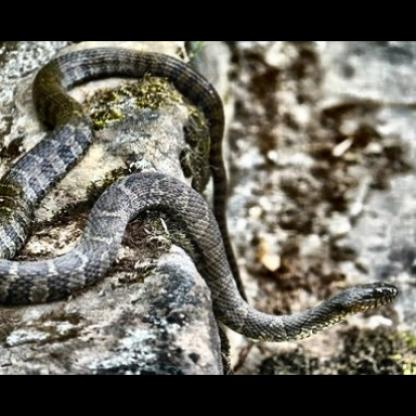Snake: (8, 61, 412, 355)
